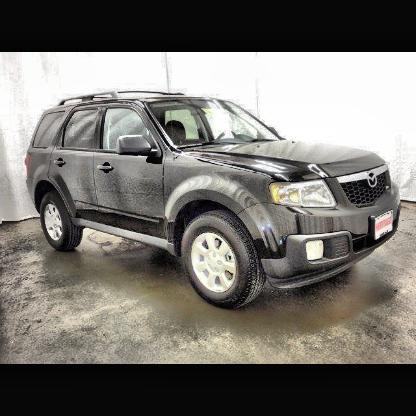Mazda Tribute SUV 2011: (20, 89, 402, 309)
